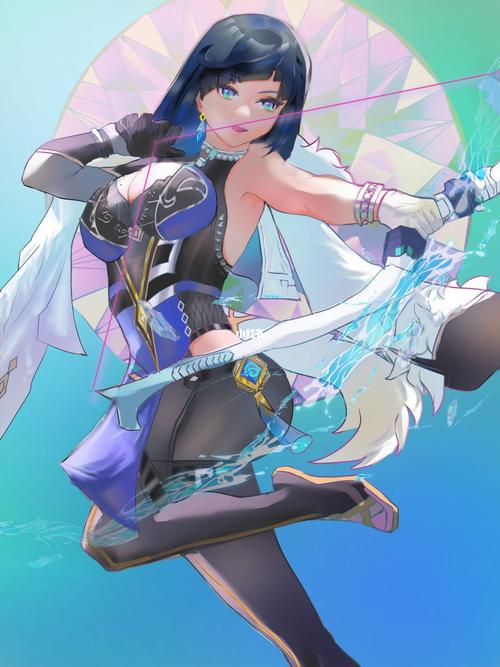夜兰: (19, 11, 500, 665)
